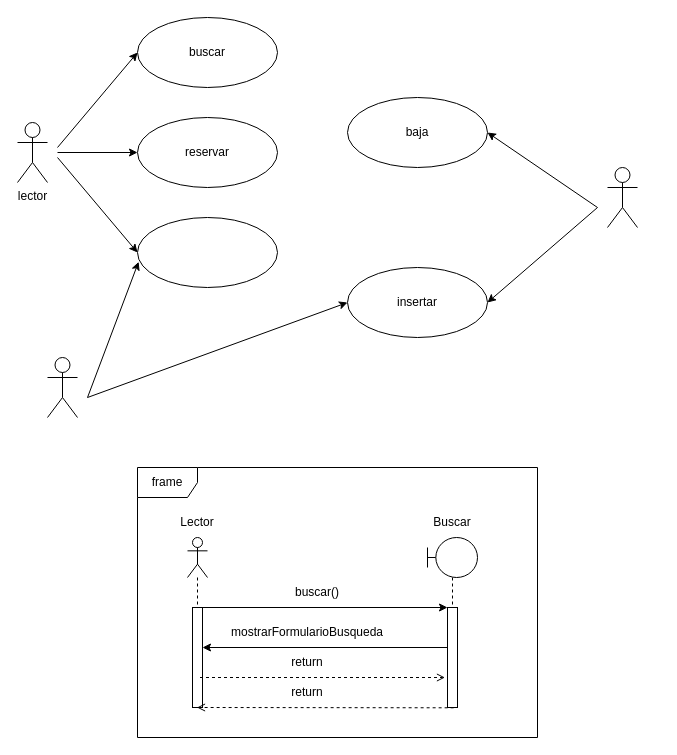
Some shapes in this 677 by 755 pixel diagram are drawn without their labels. Here are the shapes that lost their labels. From the top down, the box of each, then its label:
(606, 166, 638, 228): administrativo
(136, 216, 278, 288): anular
(46, 356, 78, 418): bibliotecario
